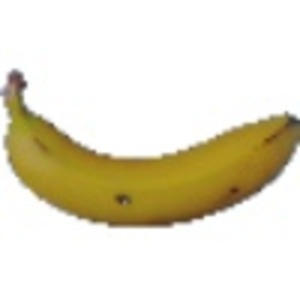banana: (1, 63, 297, 232)
